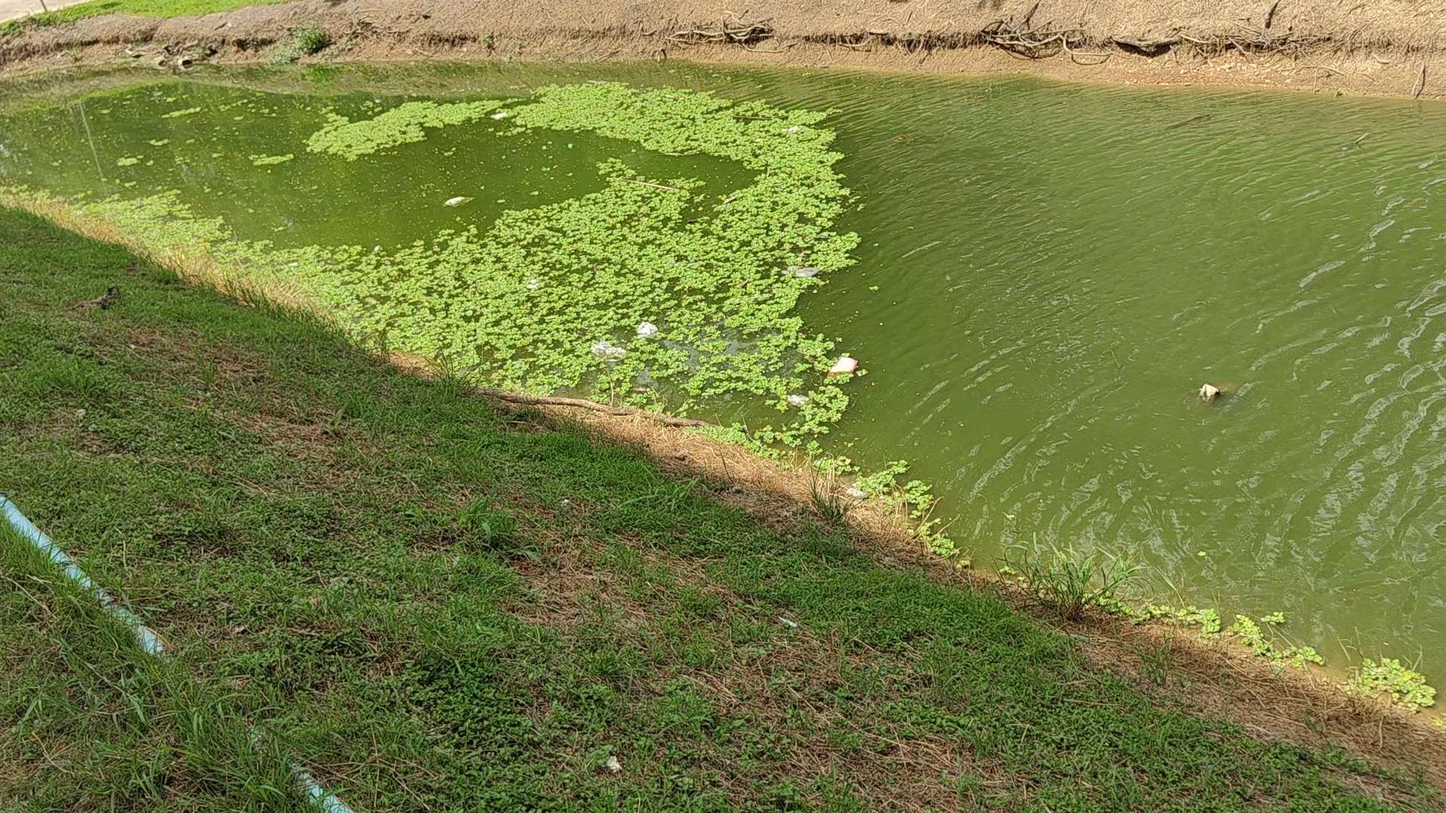trash: (590, 340, 626, 360), (829, 357, 857, 376), (1199, 383, 1222, 401), (636, 321, 658, 336), (789, 266, 819, 277), (444, 196, 473, 206), (788, 394, 809, 406), (526, 278, 541, 289), (782, 125, 802, 132), (492, 111, 507, 119)
